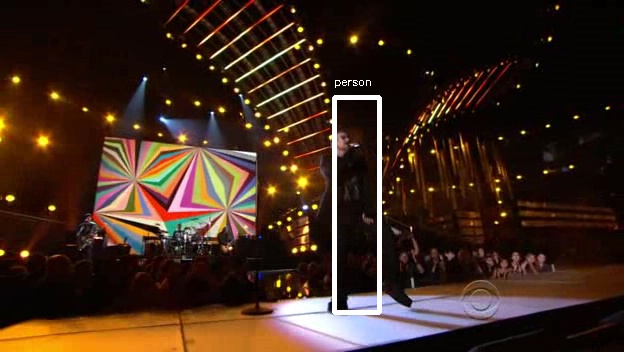person: (320, 132, 383, 248), (317, 132, 380, 248), (323, 132, 386, 248), (320, 129, 383, 245), (320, 135, 383, 251)
target_negative: (202, 142, 438, 242), (33, 131, 519, 179), (207, 181, 272, 352), (4, 240, 239, 284), (336, 263, 368, 343), (569, 290, 600, 311)
